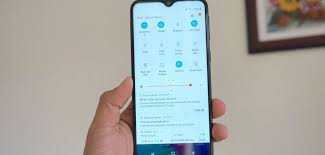samsung: (129, 1, 214, 155)
